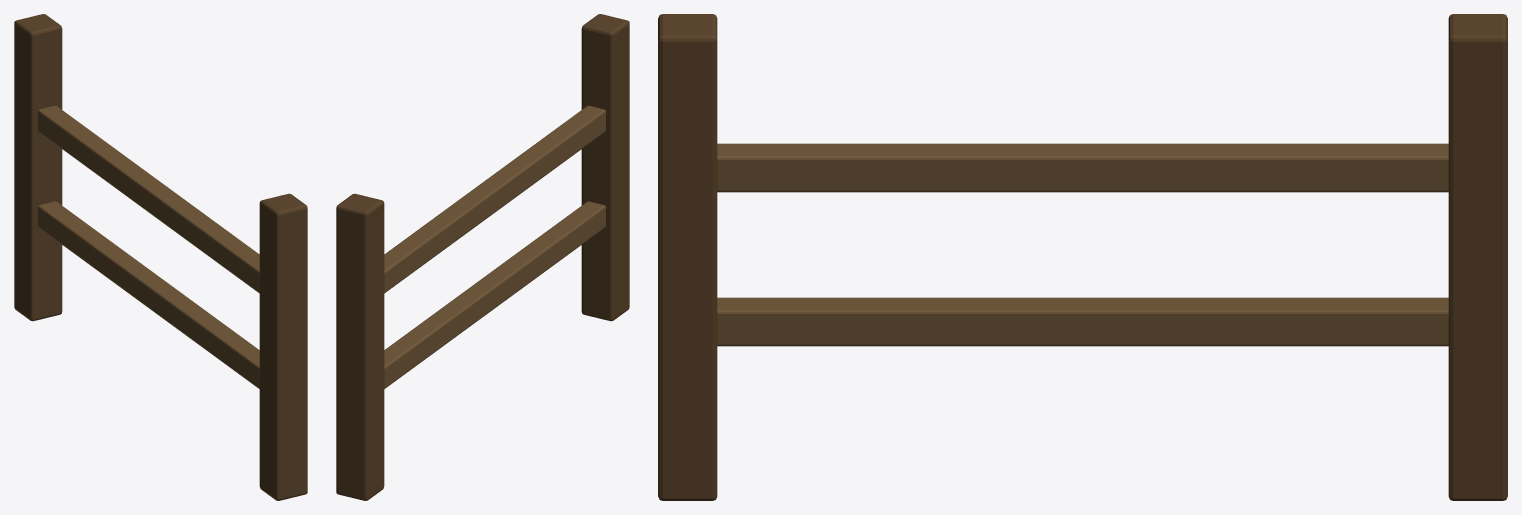
Rendered from fence.glb.
The picture shows the model from 3 angles, left to right: view 1: azimuth 30°, elevation 25°; view 2: azimuth 150°, elevation 25°; view 3: azimuth 270°, elevation 25°; orthographic projection. The views are drawn at different scales.
Parts seen in each view (by area): view 1: MV_fence; view 2: MV_fence; view 3: MV_fence.
Part boxes in pixels (<box>): MV_fence: <box>14,14,307,500</box>; MV_fence: <box>336,14,629,500</box>; MV_fence: <box>658,14,1507,500</box>.
Bounding box in the file's own units: 0.15 × 1.3 × 2.15.
